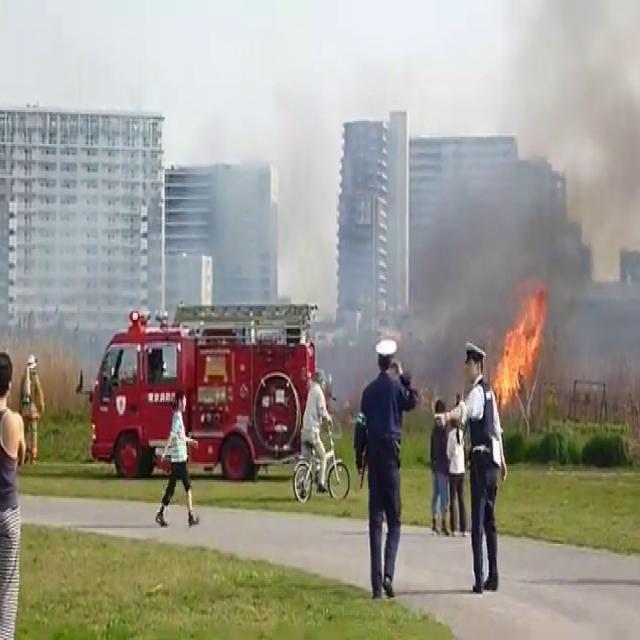Fire: (490, 282, 552, 408)
Smoke: (409, 0, 640, 338), (203, 142, 334, 330)
